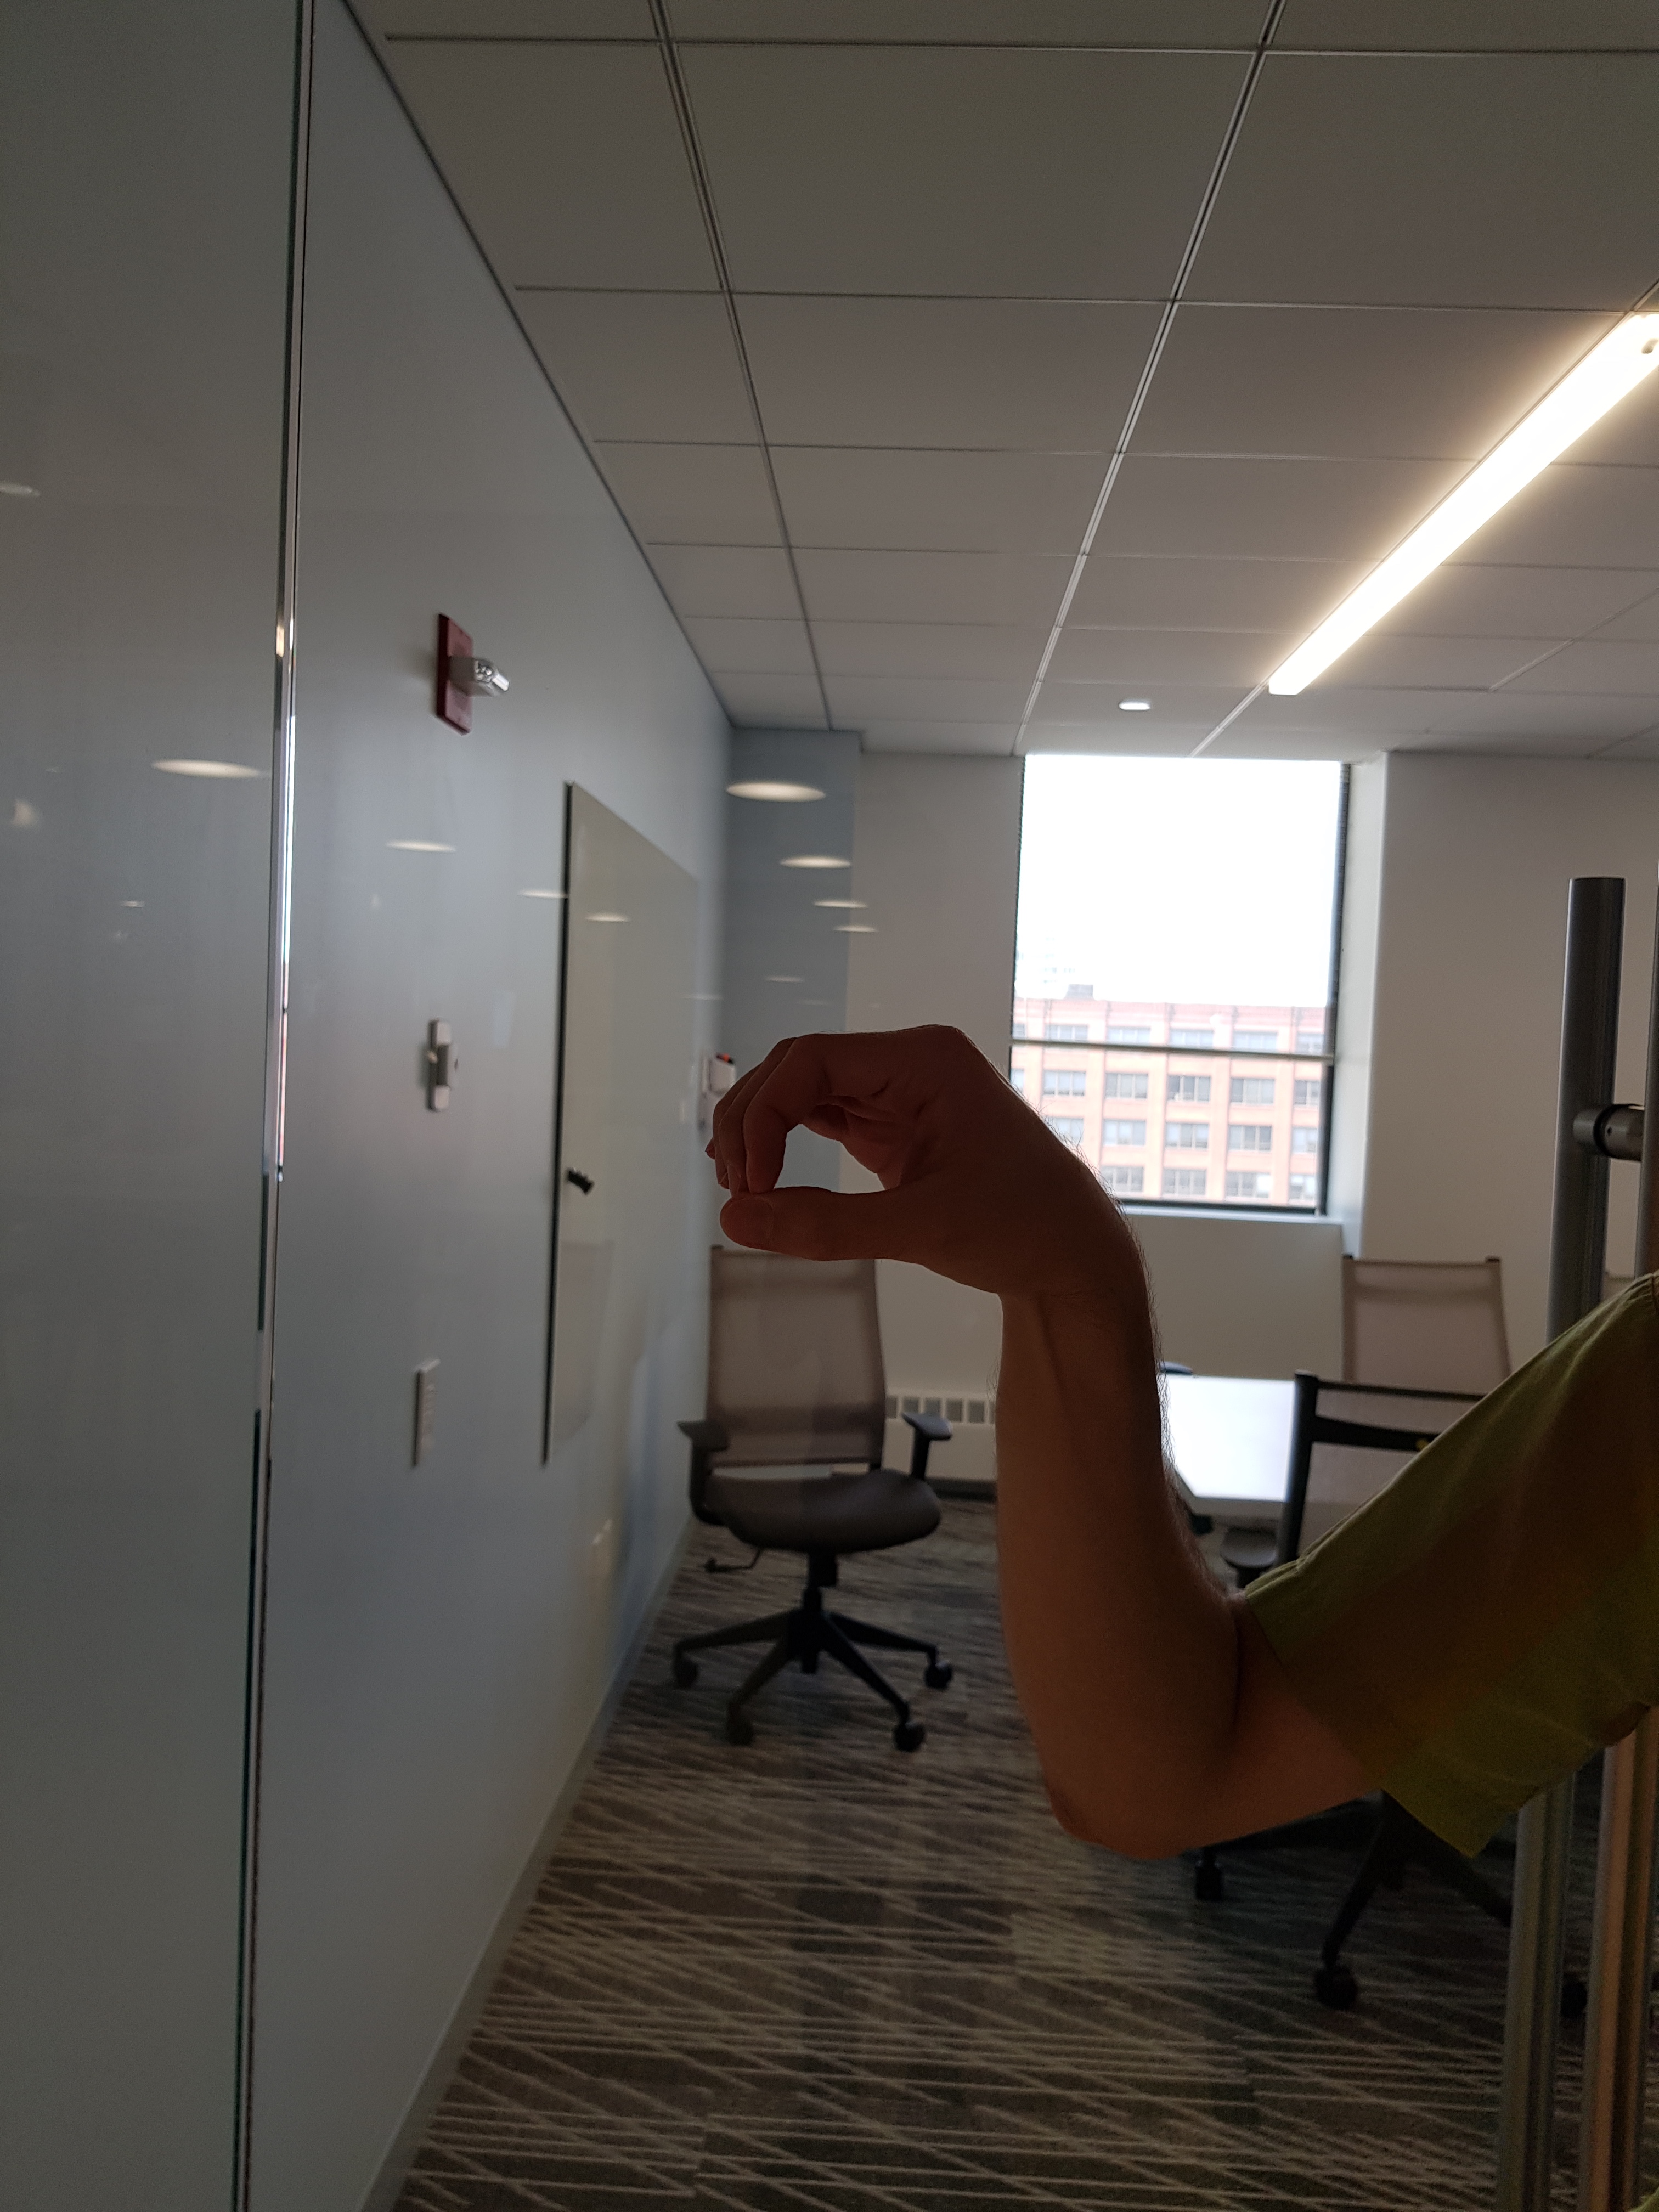o: (680, 993, 1161, 1341)
